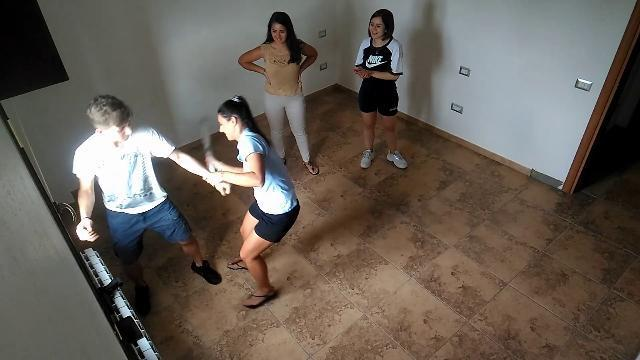non-violence: (348, 0, 414, 186)
violence: (73, 94, 304, 308)
